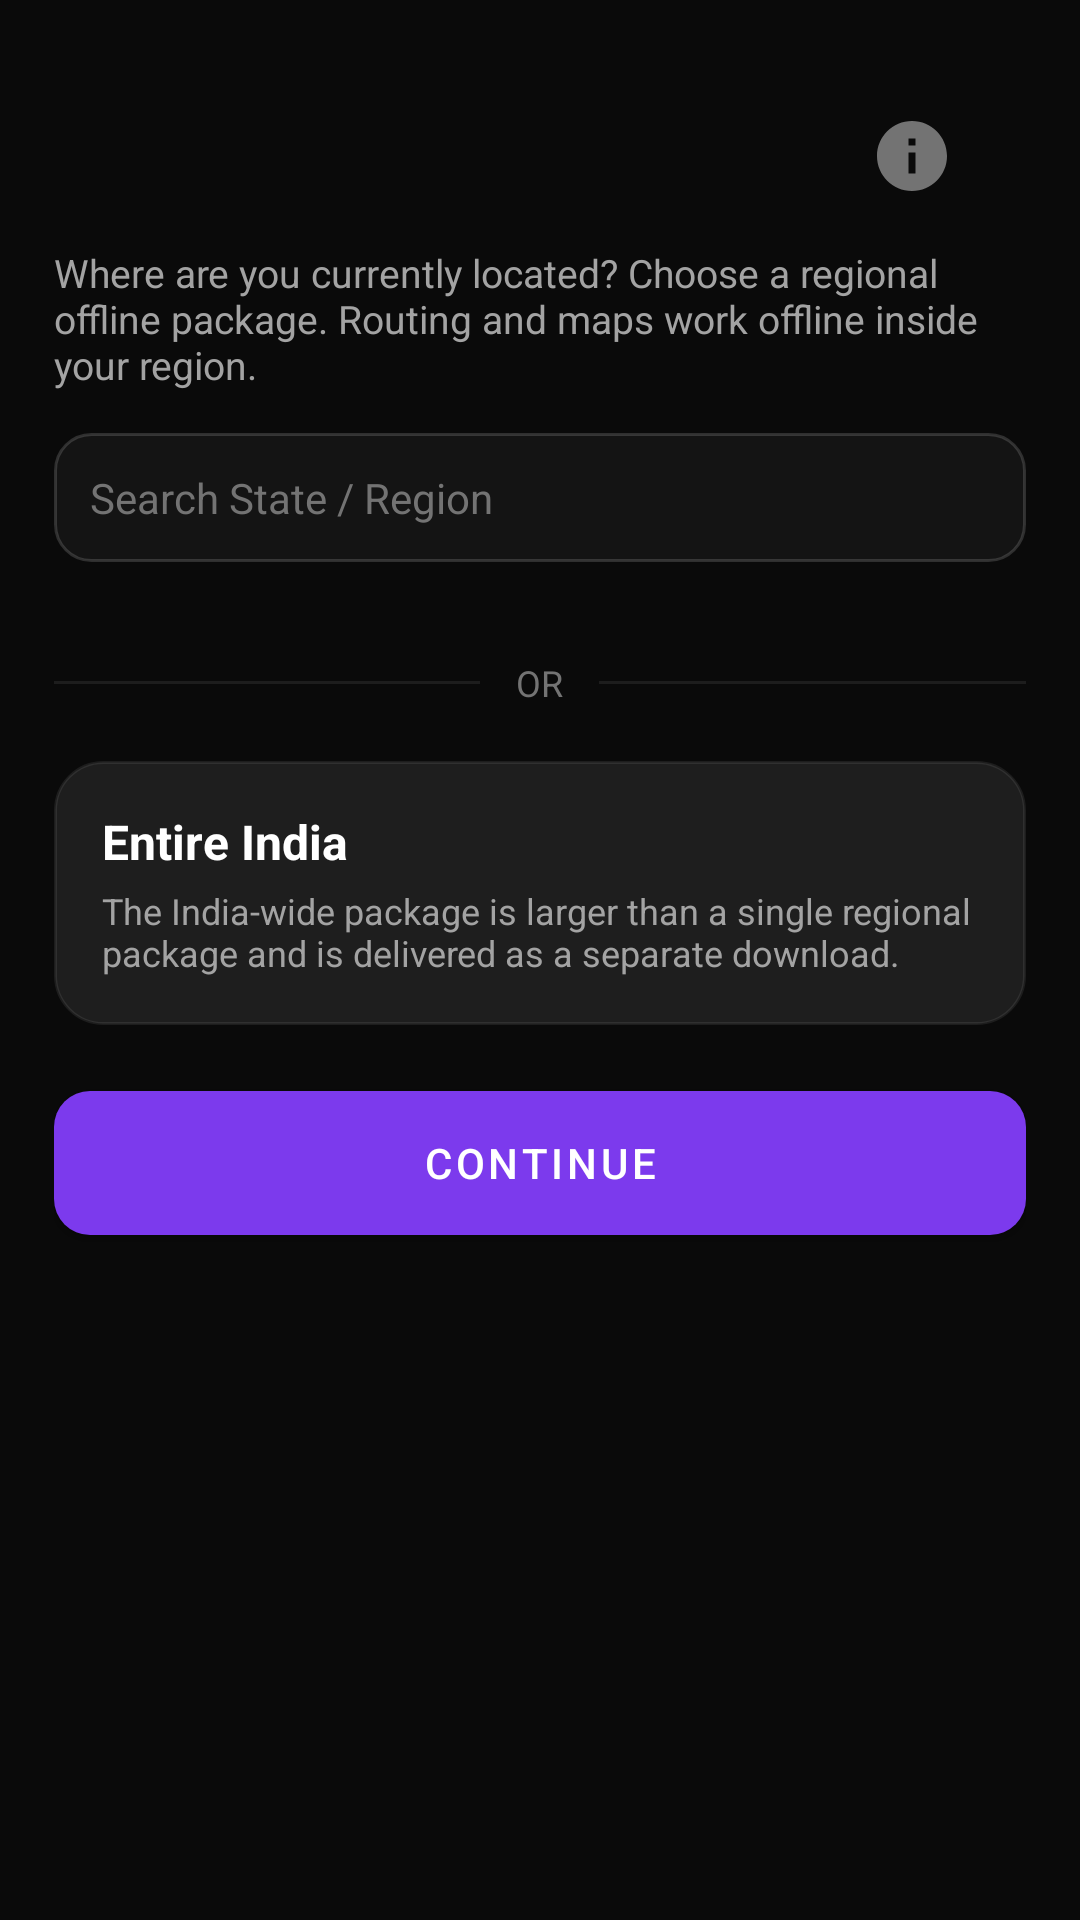

Where icons sit on this 1080*1920 app screen, as bbox=[x1, y1, x2, y2]:
Help: bbox=[877, 121, 947, 191]
